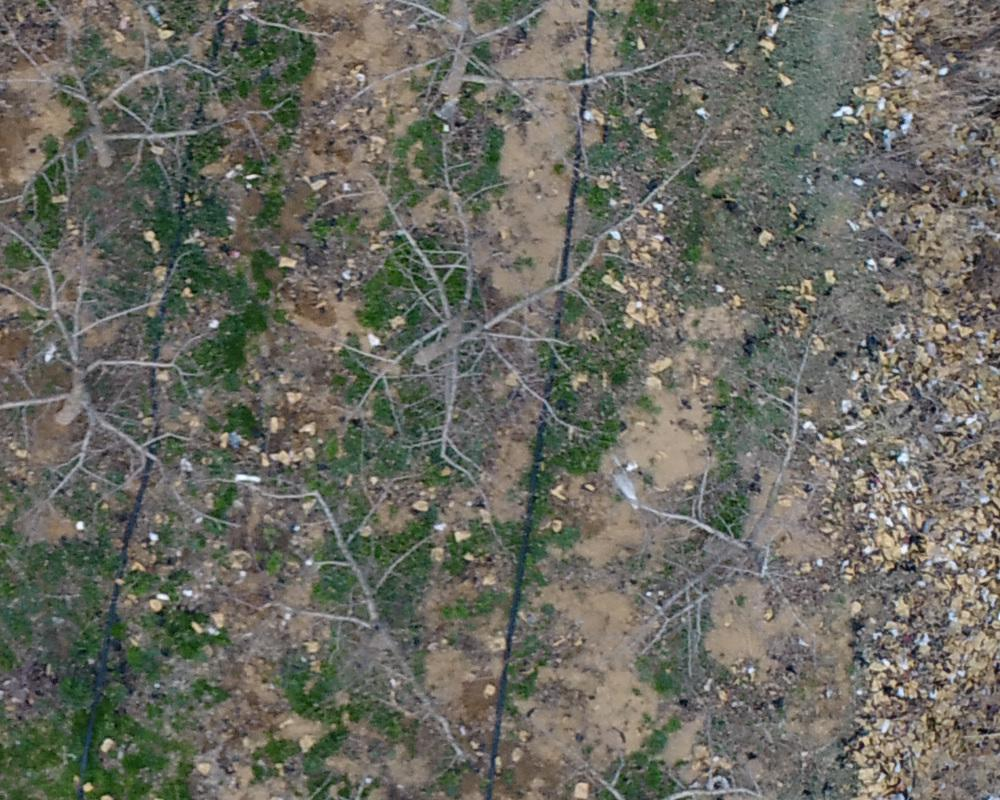apple: (310, 138, 652, 505), (208, 441, 481, 755), (604, 331, 829, 670), (10, 202, 235, 512), (296, 10, 722, 147), (10, 10, 270, 206)
